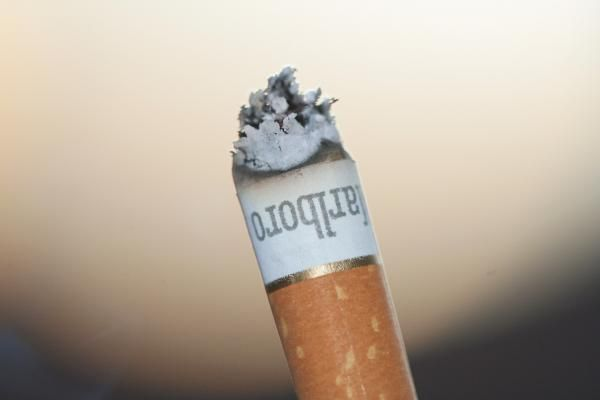cigarette: (232, 63, 433, 400)
